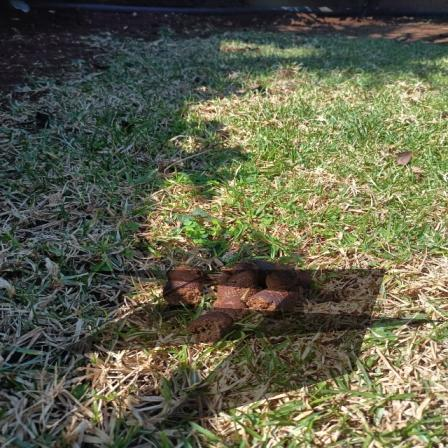dog-poop: (166, 261, 297, 341)
